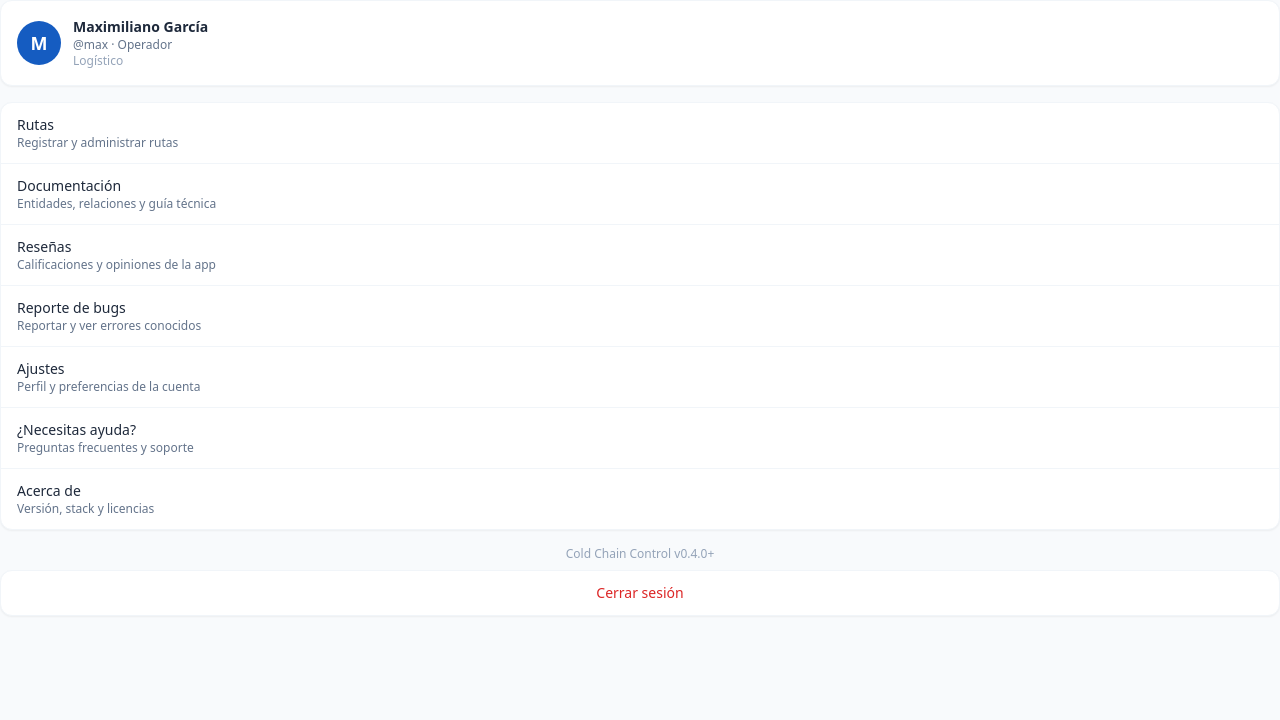
Scenario: More page › shows logout confirmation modal on cerrar sesión click
The button that triggers the modal is the one in the normal flow (not inside modal)
What coordinates should you click on to do the following:
click the button "Cerrar sesión"
I would click on:
 (640, 593)
Its box is [0,570,1279,616].
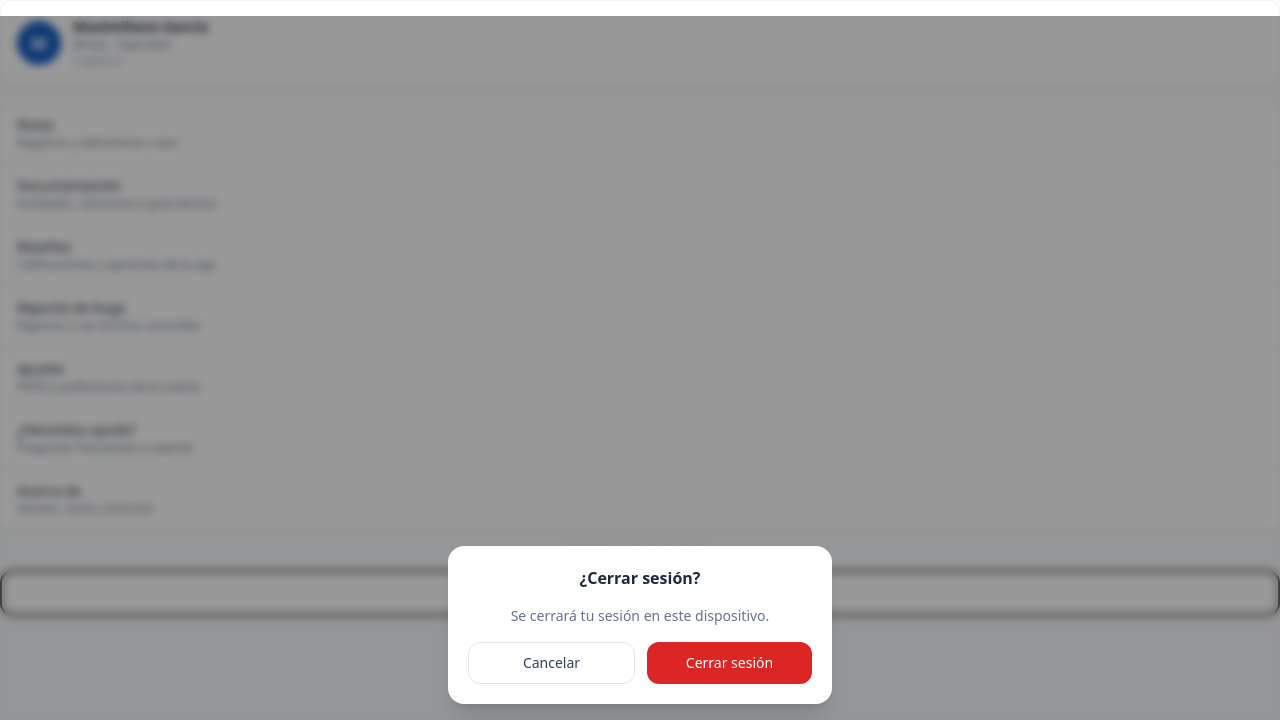
Expected: the text "¿Cerrar sesión?" is shown, [580,567,700,589]
